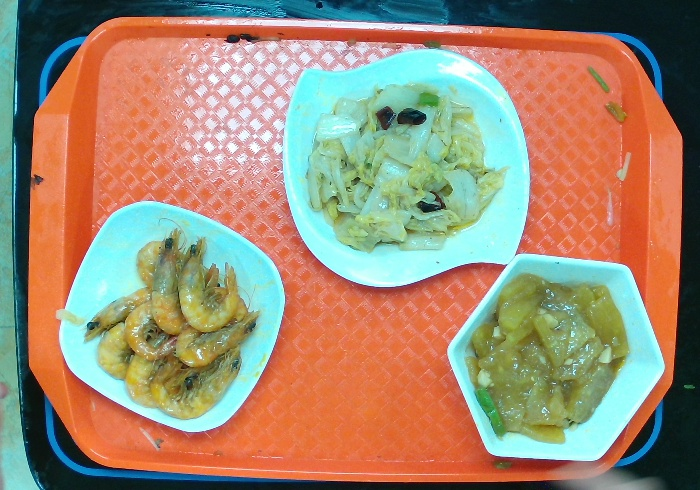RJxy-Liu_Jiao_Wan: (445, 251, 667, 462)
RJxy-Shuang_Jiao_Pan: (281, 47, 532, 289)
RJxy-Si_Fang_Wan: (56, 199, 288, 434)
